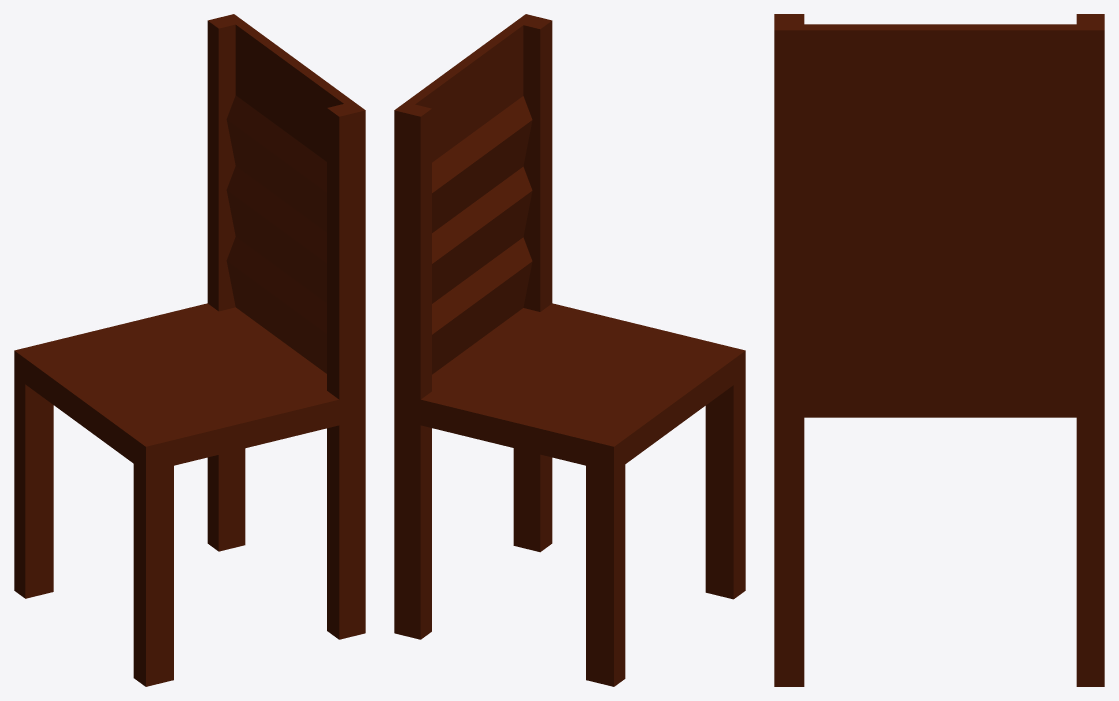
File: Silla.fbx
3 views of the same model, side by side, from view 1: azimuth 30°, elevation 25°; view 2: azimuth 150°, elevation 25°; view 3: azimuth 270°, elevation 25° (orthographic). The views are drawn at different scales.
Visible parts, largest first — view 1: Silla; view 2: Silla; view 3: Silla.
Part boxes in pixels (<box>): Silla: <box>14,14,365,686</box>; Silla: <box>394,14,745,686</box>; Silla: <box>774,14,1104,686</box>.
Bounding box in the file's own units: 394 × 895 × 408.
